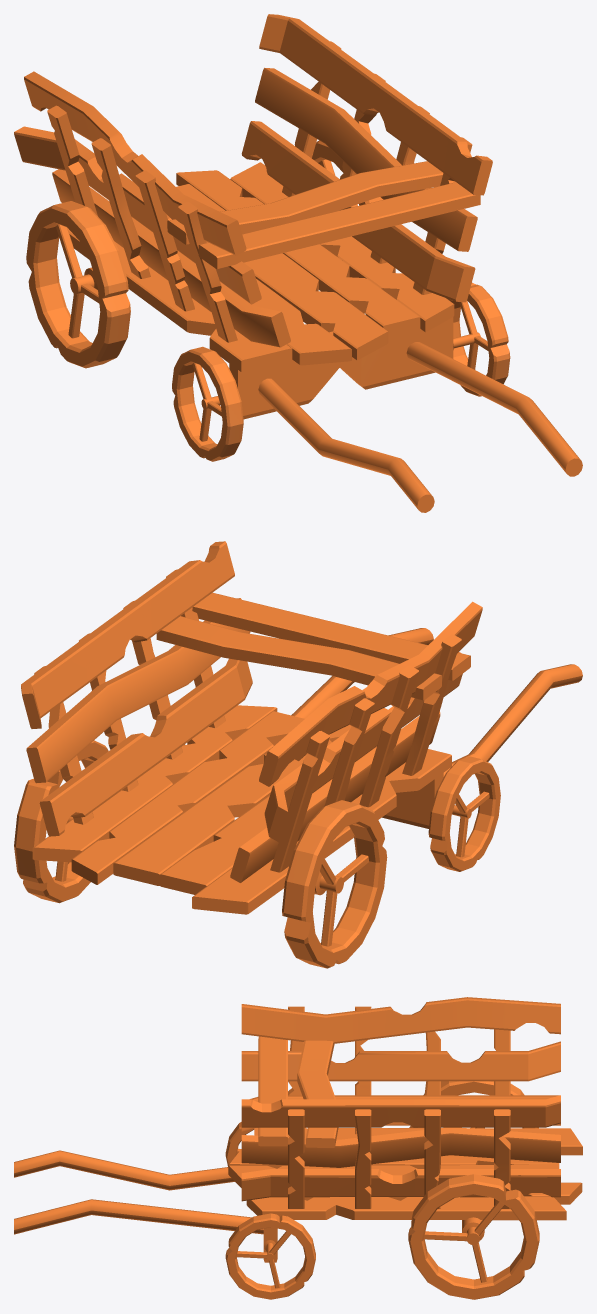
The model's file is Carro_a-2.fbx.
3 renders of one model, top to bottom at view 1: azimuth 30°, elevation 25°; view 2: azimuth 150°, elevation 25°; view 3: azimuth 270°, elevation 25°, orthographic. The views are drawn at different scales.
Visible parts, largest first — view 1: Carroça-2; view 2: Carroça-2; view 3: Carroça-2.
Boxes of the visible parts, x1,y1,x2,y2 form: Carroça-2: (14,14,582,512); Carroça-2: (14,541,582,968); Carroça-2: (14,997,582,1299).
Size of the model in its own units: 230 by 194 by 497.
